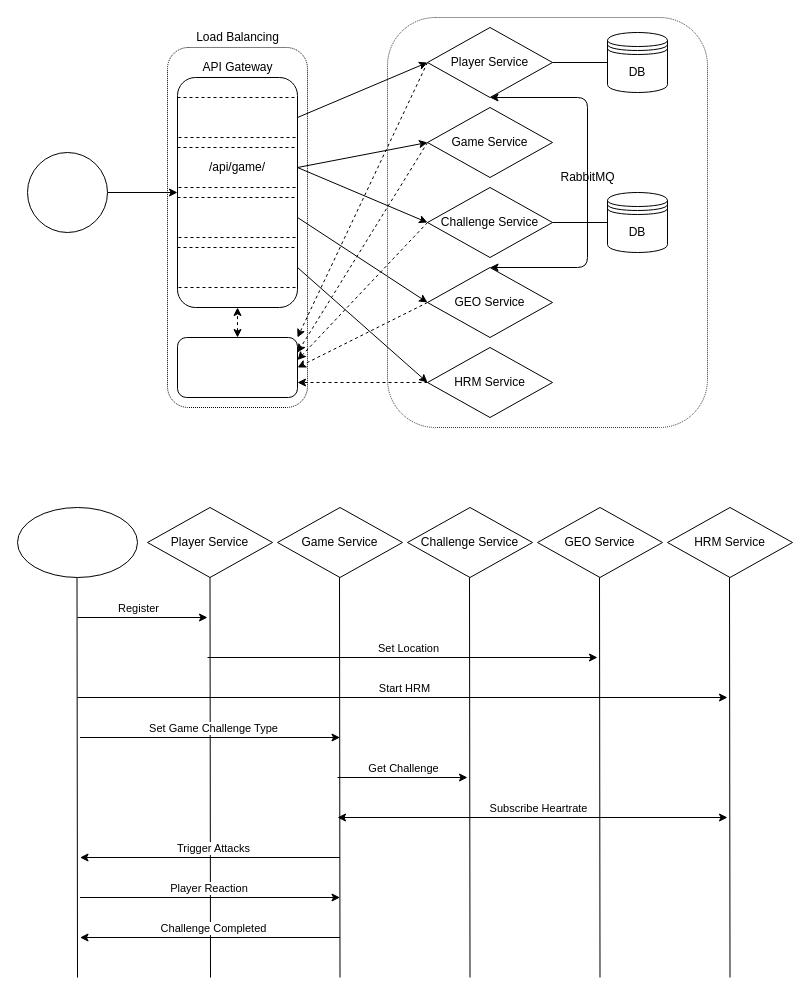
The diagram is 810 pixels wide and 996 high, and some of its shapes have lost their labels. The centre of each missing label's shape, as x and y in pixels:
"/api/geo/" goes at point (237, 217).
"/api/hrm/" goes at point (237, 267).
"/api/player/" goes at point (237, 117).
"Player" goes at point (67, 192).
"Player/User" goes at point (77, 542).
"Service Discovery/Registry" goes at point (237, 367).
